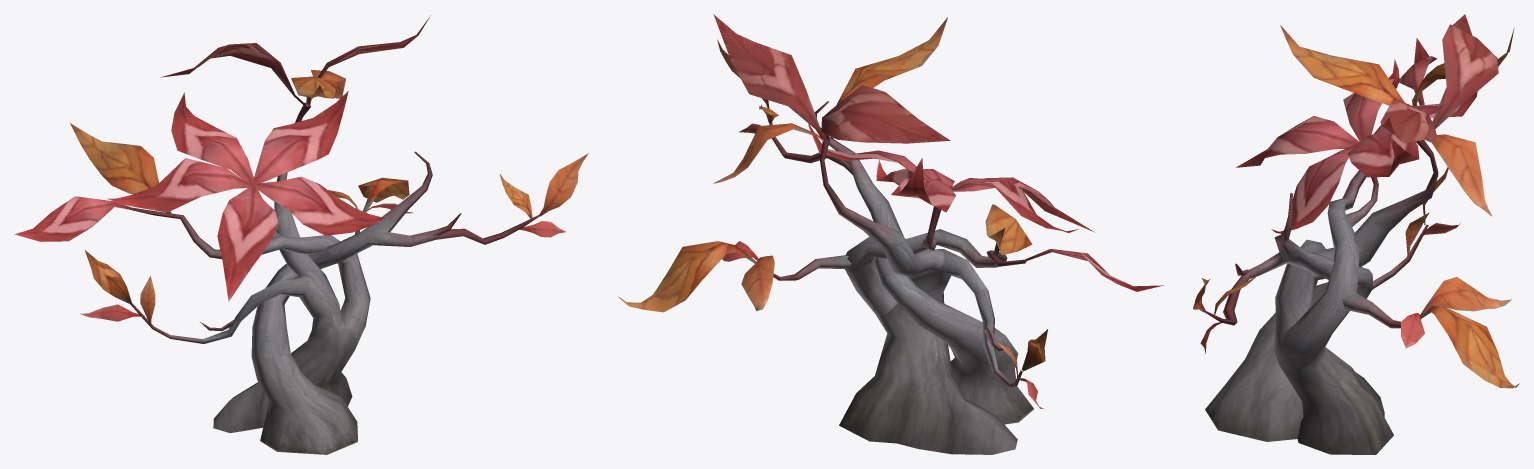
Rendered from AN_RedTree01.FBX.
3 renders of one model, left to right at view 1: azimuth 30°, elevation 25°; view 2: azimuth 150°, elevation 25°; view 3: azimuth 270°, elevation 25°, orthographic. The views are drawn at different scales.
Visible parts, largest first — view 1: AN_RedTree01; view 2: AN_RedTree01; view 3: AN_RedTree01.
Boxes of the visible parts, bbox=[...] form: AN_RedTree01: bbox=[14, 15, 588, 454]; AN_RedTree01: bbox=[618, 14, 1163, 454]; AN_RedTree01: bbox=[1193, 14, 1519, 454].
Bounding box in the file's own units: 1058 × 714 × 529.
1 material, 1 textured.
